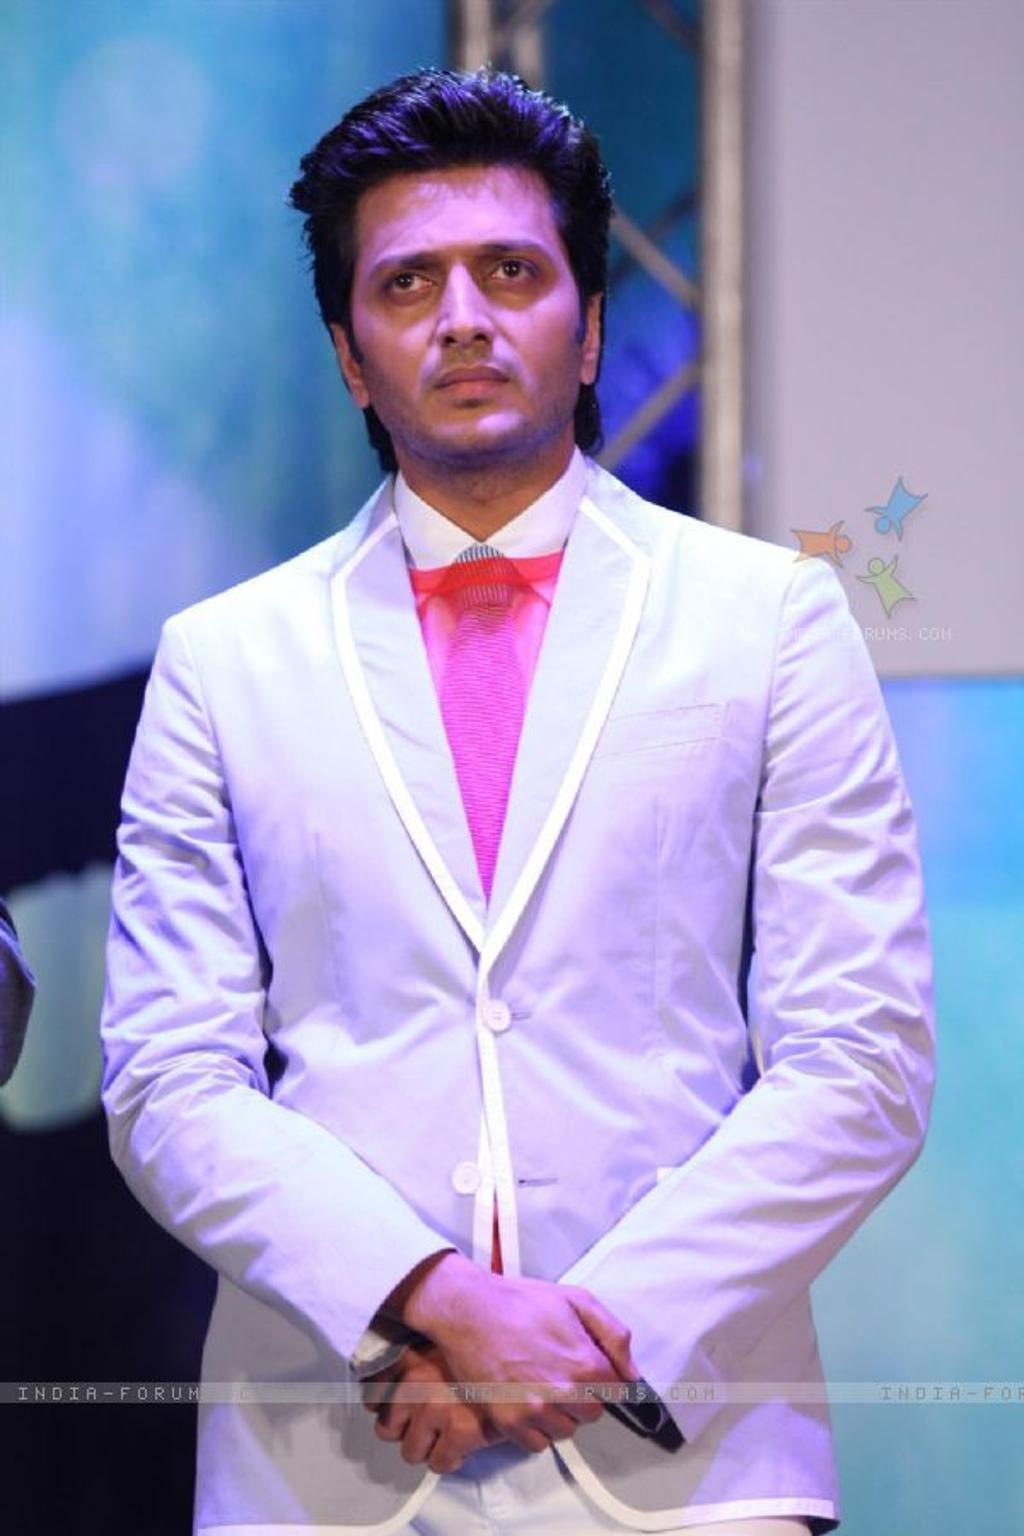face: (346, 160, 580, 451)
